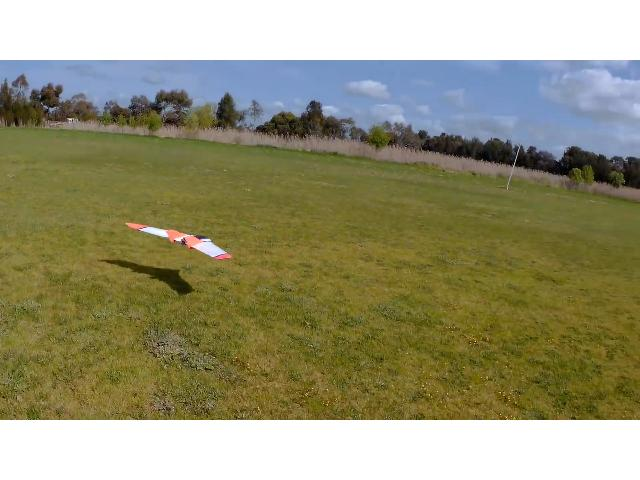Anti-Drone: (125, 223, 233, 260)
